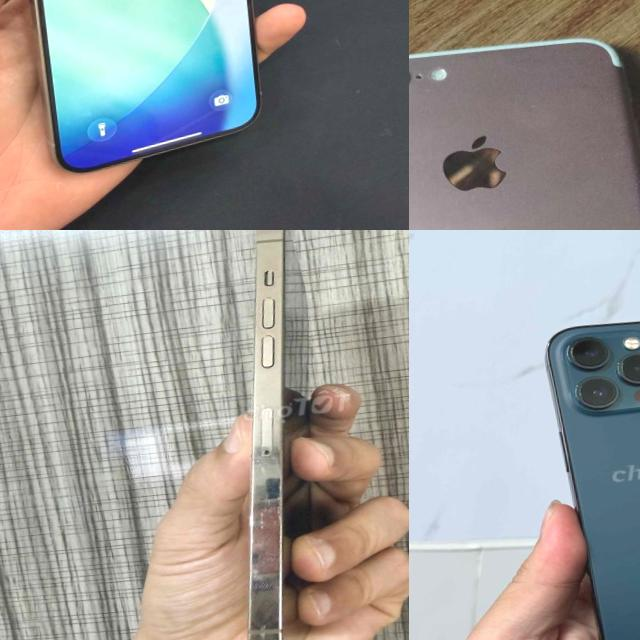gen_12_13: (531, 301, 640, 640)
gen_14: (189, 230, 338, 640)
gen_15: (0, 0, 302, 169)
gen_7_8: (409, 20, 640, 230)
scratch: (237, 446, 286, 546), (240, 552, 276, 640), (524, 93, 546, 122)
